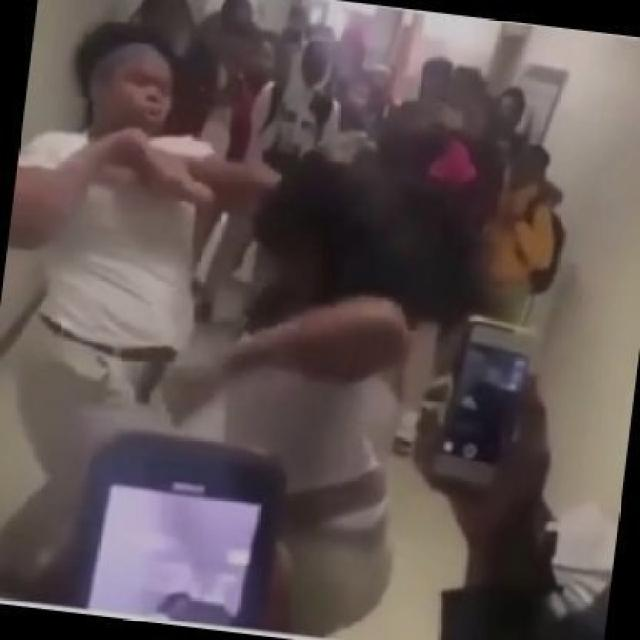fight: (5, 23, 466, 640)
